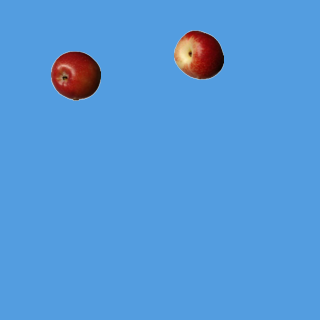Apple Braeburn: (50, 50, 100, 100)
Nectarine: (173, 29, 223, 79)
